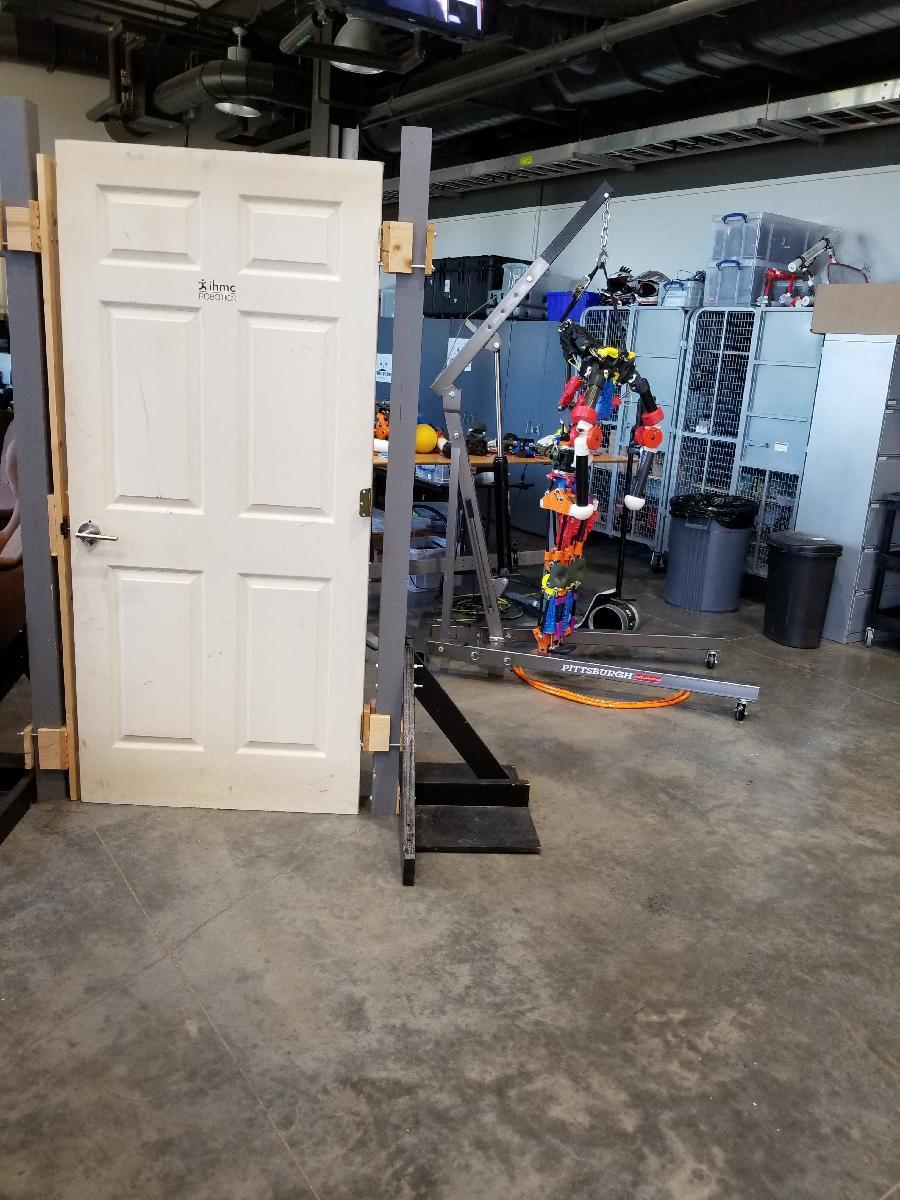door: (55, 143, 368, 819)
handle: (71, 520, 122, 552)
